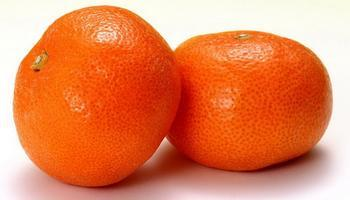orange: (14, 4, 177, 187), (162, 30, 337, 169)
